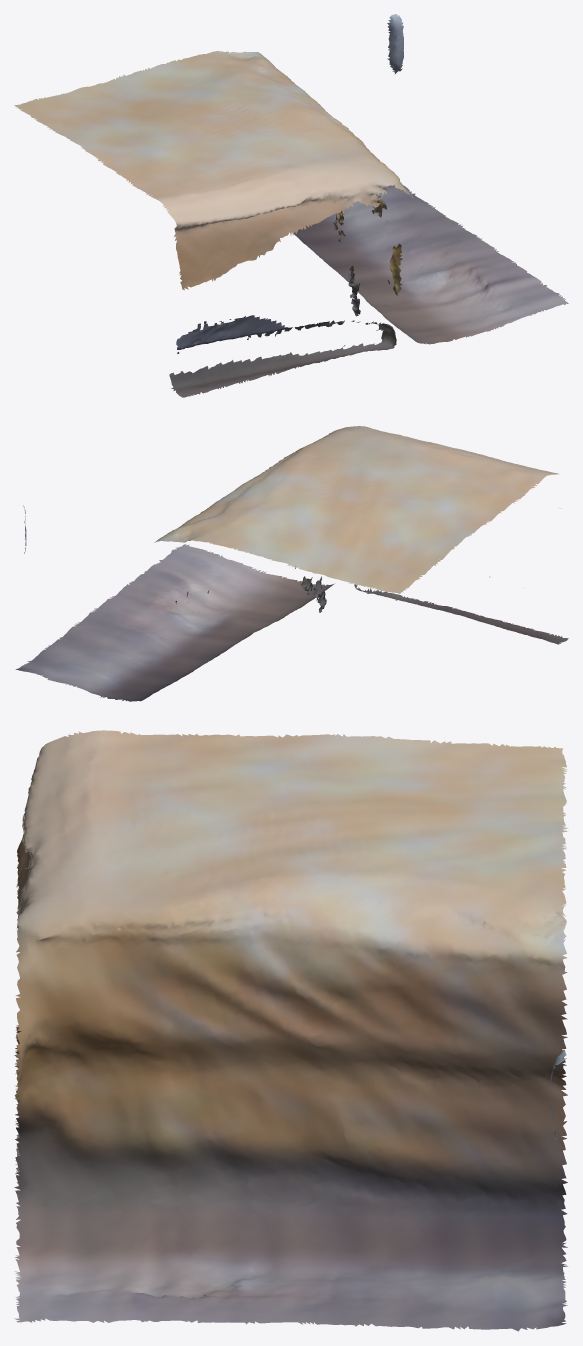
The model's file is apartment-full-39-3f289d837b5e.glb.
The picture shows the model from 3 angles, top to bottom: view 1: azimuth 30°, elevation 25°; view 2: azimuth 150°, elevation 25°; view 3: azimuth 270°, elevation 25°; orthographic projection. The views are drawn at different scales.
Bounding box in the file's own units: 1.18 × 0.565 × 0.902.
